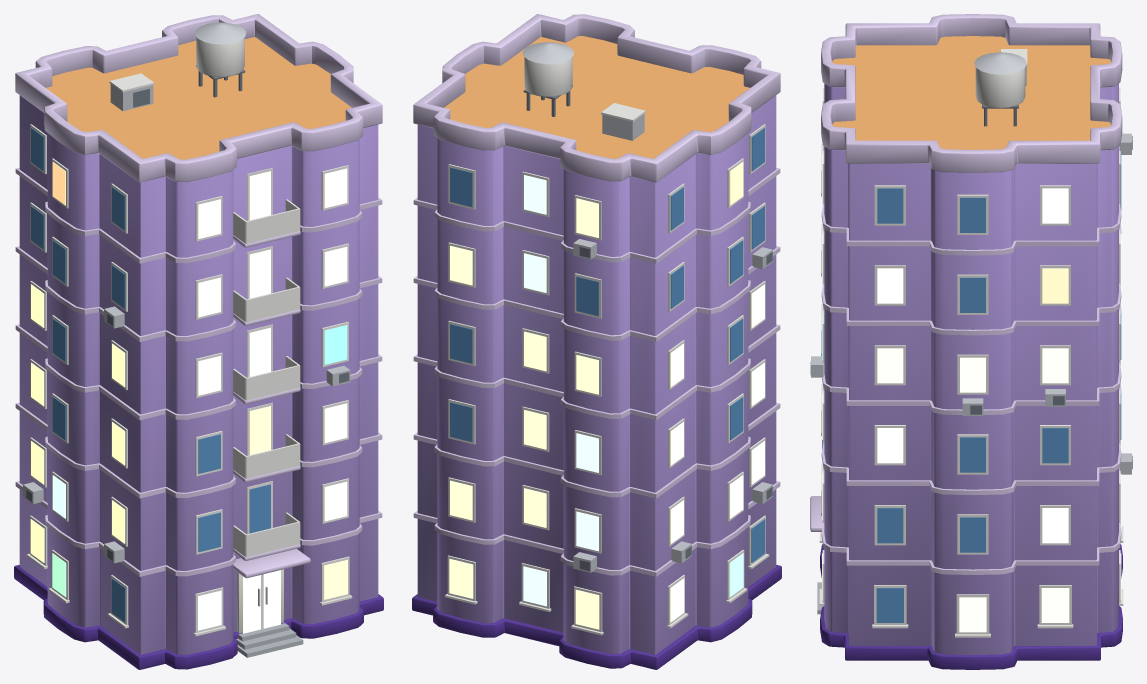
File: apto_lilas_sacadas.glb
3 views of the same model, side by side, from view 1: azimuth 30°, elevation 25°; view 2: azimuth 150°, elevation 25°; view 3: azimuth 270°, elevation 25° (orthographic). The views are drawn at different scales.
Parts seen in each view (by area): view 1: apto_lilas_sacadas; view 2: apto_lilas_sacadas; view 3: apto_lilas_sacadas.
Boxes of the visible parts, x1,y1,x2,y2 form: apto_lilas_sacadas: (14,14,383,669); apto_lilas_sacadas: (412,14,781,669); apto_lilas_sacadas: (810,14,1132,669).
Size of the model in its own units: 12.45 by 22.56 by 11.69.
7 materials, 1 textured.
